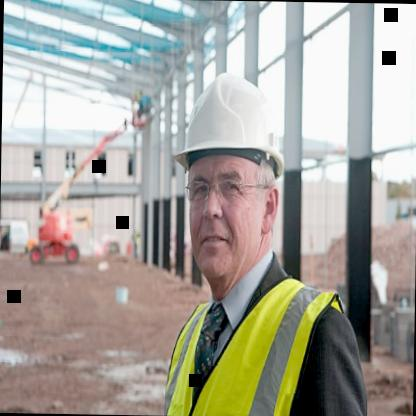helmet: (165, 45, 296, 304)
